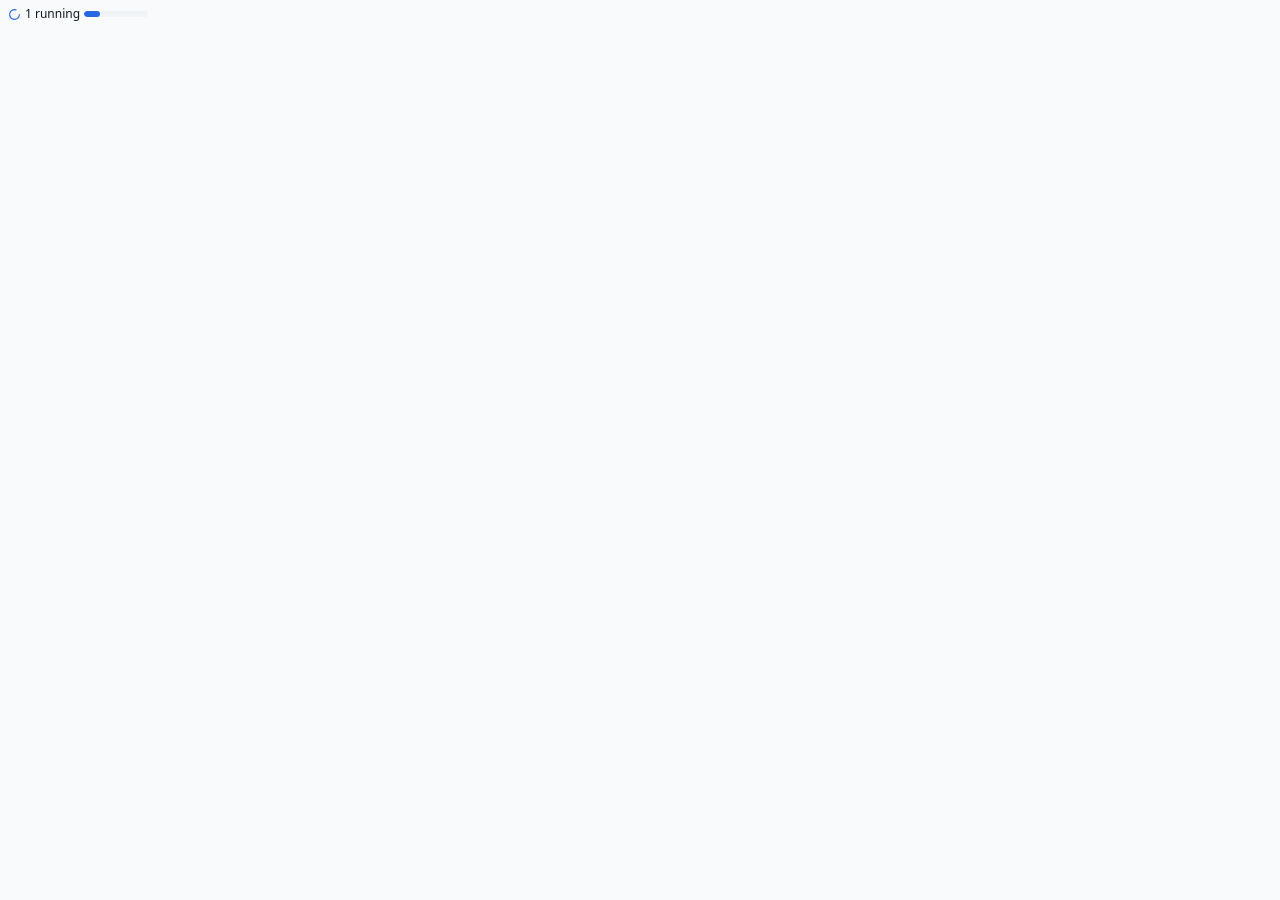
JobsIndicator and the job center › shows the running jobs of the backend and their progress
Click the button with test id "jobs-indicator" at (78, 14), box left=0, top=0, right=156, bottom=28
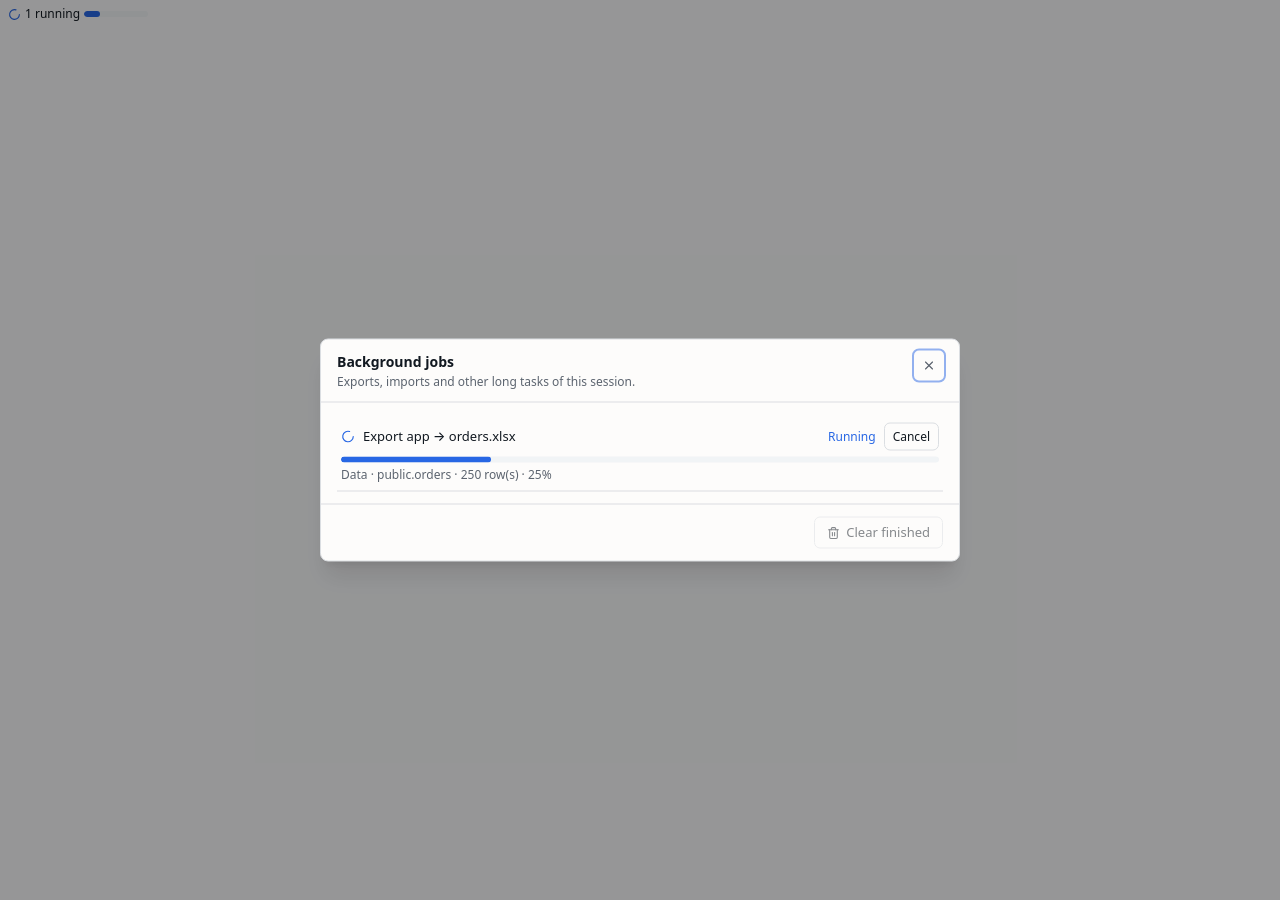
Check: the list item with test id "job-1" shows "Export app → orders.xlsx", box left=363, top=427, right=516, bottom=445
Check: the list item with test id "job-1" shows "public.orders", box left=368, top=466, right=451, bottom=482
